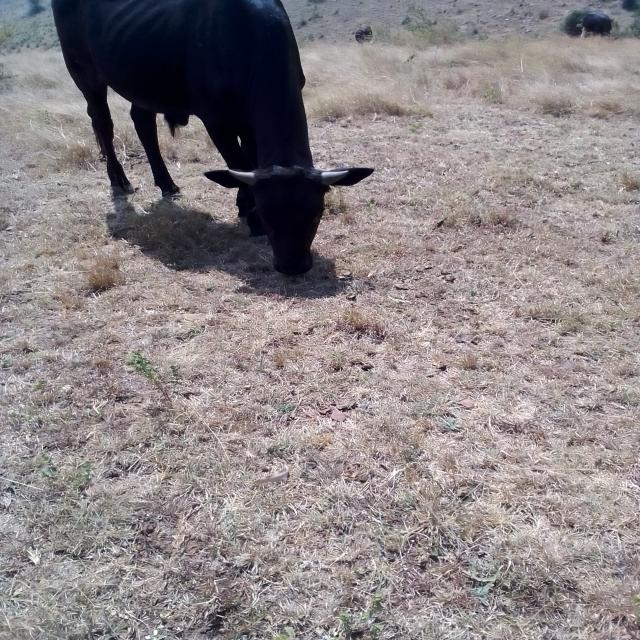sheep: (53, 0, 373, 275)
